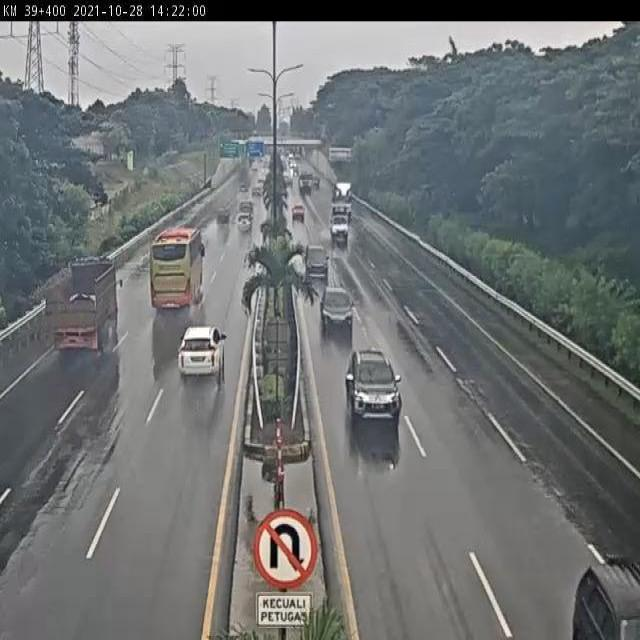big bus: (148, 225, 207, 318)
car: (175, 326, 229, 386), (318, 285, 356, 339), (302, 242, 328, 278)
truck-l-: (51, 259, 118, 348)
truck-s-: (328, 202, 352, 242)
